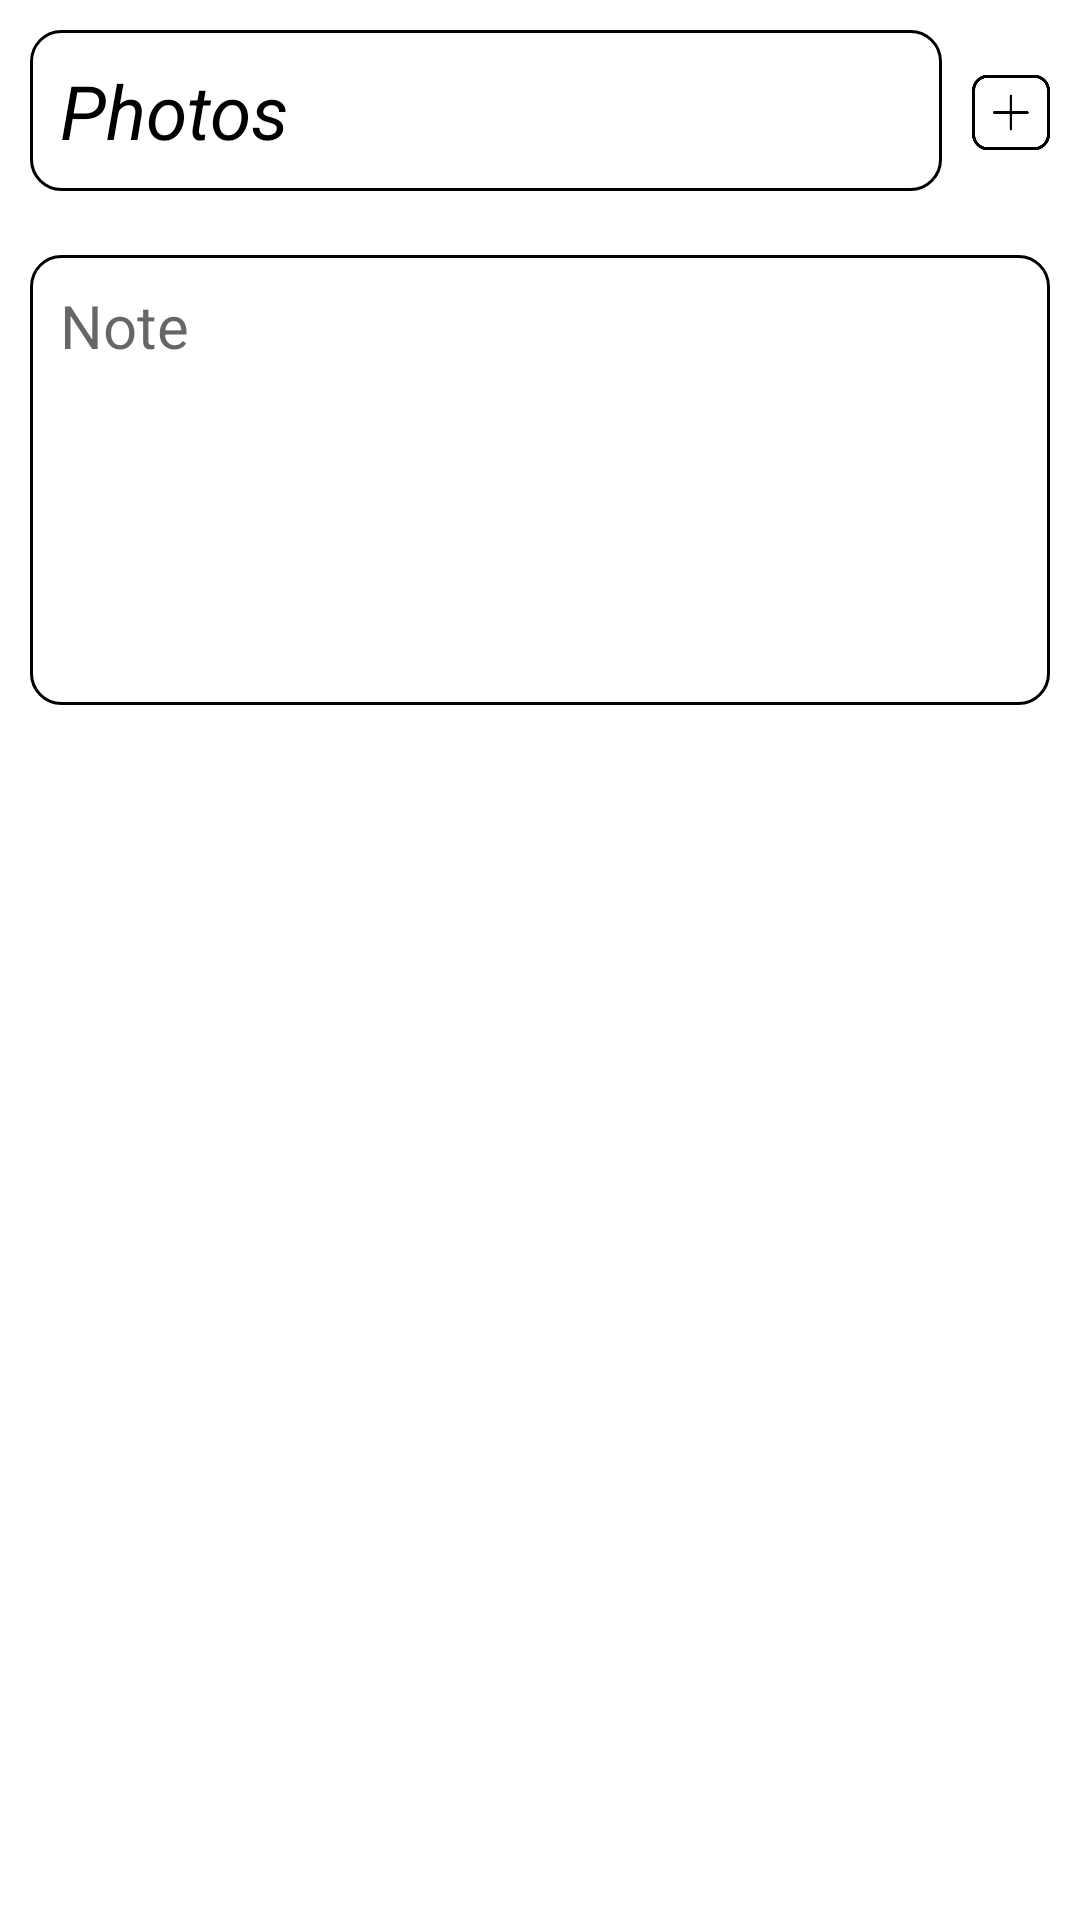

Icon click points for this 1080×1920 phone screenshot, format (x=x, y=y):
plus: (x=1011, y=112)
